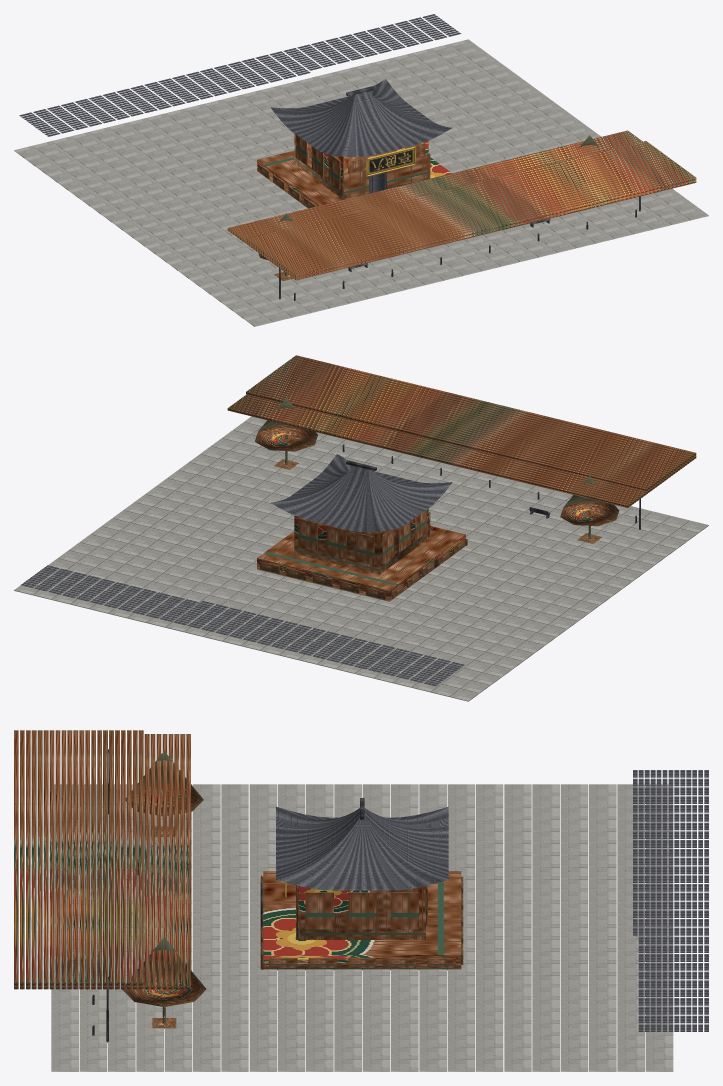
3 renders of one model, top to bottom at view 1: azimuth 30°, elevation 25°; view 2: azimuth 150°, elevation 25°; view 3: azimuth 270°, elevation 25°, orthographic. The views are drawn at different scales.
Parts seen in each view (by area): view 1: 11140_02_04628_022_01__plinth_ground_base, 11140_02_04628_022_02__mass_body_facade, 11140_02_04628_022_03__roof_deck_structure, 11140_02_04628_022_04__sign_board, 11140_02_04628_022_05__door_hardware_iron; view 2: 11140_02_04628_022_01__plinth_ground_base, 11140_02_04628_022_02__mass_body_facade, 11140_02_04628_022_03__roof_deck_structure, 11140_02_04628_022_06__landscape_greenery; view 3: 11140_02_04628_022_01__plinth_ground_base, 11140_02_04628_022_02__mass_body_facade, 11140_02_04628_022_03__roof_deck_structure, 11140_02_04628_022_06__landscape_greenery.
Part boxes in pixels (left/top/right/bottom): 11140_02_04628_022_01__plinth_ground_base: left=14, top=39, right=708, bottom=326; 11140_02_04628_022_02__mass_body_facade: left=227, top=130, right=696, bottom=280; 11140_02_04628_022_03__roof_deck_structure: left=19, top=14, right=460, bottom=157; 11140_02_04628_022_04__sign_board: left=367, top=148, right=414, bottom=174; 11140_02_04628_022_05__door_hardware_iron: left=279, top=172, right=640, bottom=300; 11140_02_04628_022_01__plinth_ground_base: left=14, top=416, right=708, bottom=701; 11140_02_04628_022_02__mass_body_facade: left=227, top=355, right=696, bottom=601; 11140_02_04628_022_03__roof_deck_structure: left=21, top=454, right=464, bottom=686; 11140_02_04628_022_06__landscape_greenery: left=255, top=398, right=619, bottom=543; 11140_02_04628_022_01__plinth_ground_base: left=51, top=784, right=673, bottom=1071; 11140_02_04628_022_02__mass_body_facade: left=14, top=730, right=463, bottom=989; 11140_02_04628_022_03__roof_deck_structure: left=276, top=770, right=708, bottom=1031; 11140_02_04628_022_06__landscape_greenery: left=122, top=751, right=206, bottom=1028.
Bounding box in the file's own units: 47.95 × 9.45 × 49.12.
Materials: 7 (7 with a texture image).
